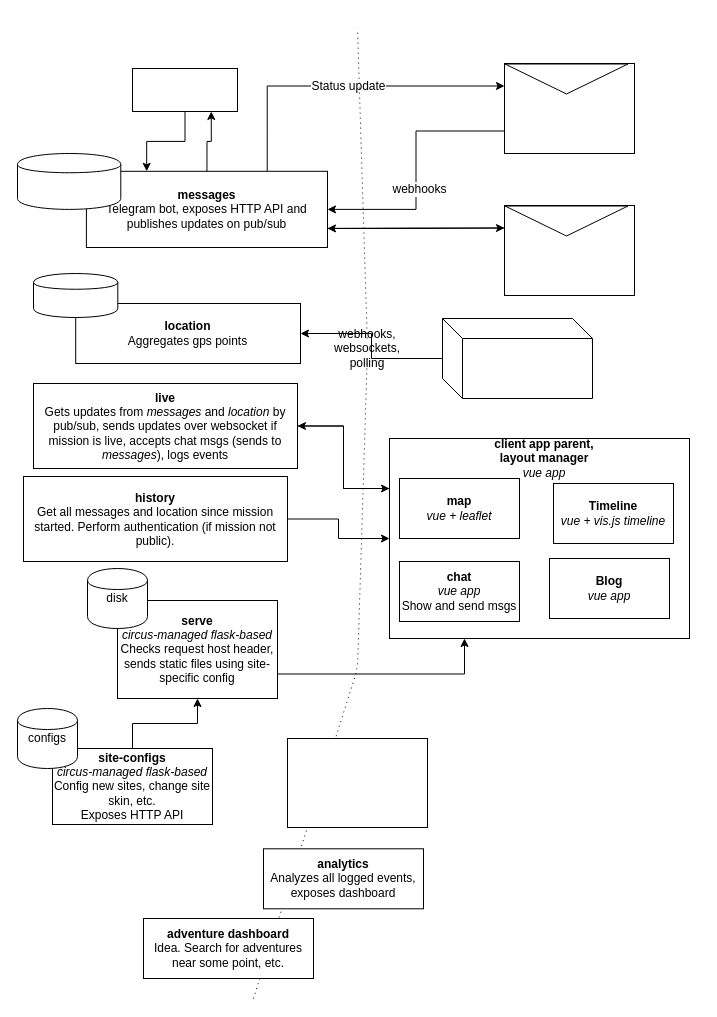
Image size: 717x1017. Some labels were removed from this diagram. The shapes that lost their labels are listed below. From the top down, each one's box as (x1, y1, x2, y2) in pixels, then its label:
(132, 68, 238, 112): transcode media rq task
(504, 62, 634, 154): Telegram group for adventurers
(16, 152, 121, 209): msgs
(504, 204, 634, 296): Telegram group for adventurers that shows chat
(32, 272, 118, 318): location
(442, 318, 592, 398): location services
(286, 738, 428, 828): status m/monit Polls health of all services, shows status page and notifies
